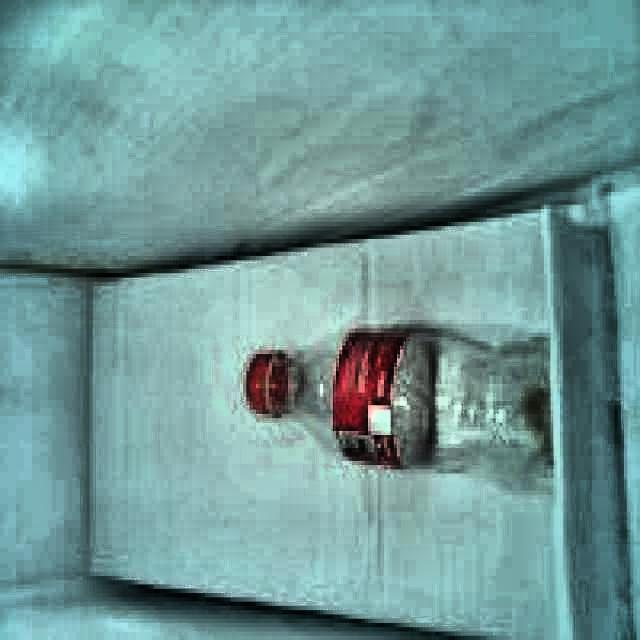plastic bottle: (246, 327, 552, 474)
